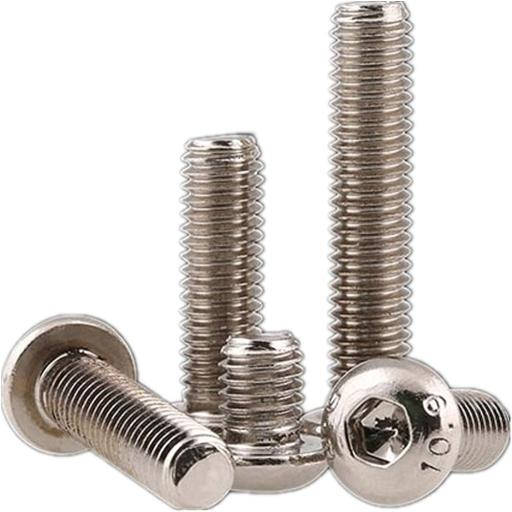Hex-Allen: (321, 355, 460, 505)
